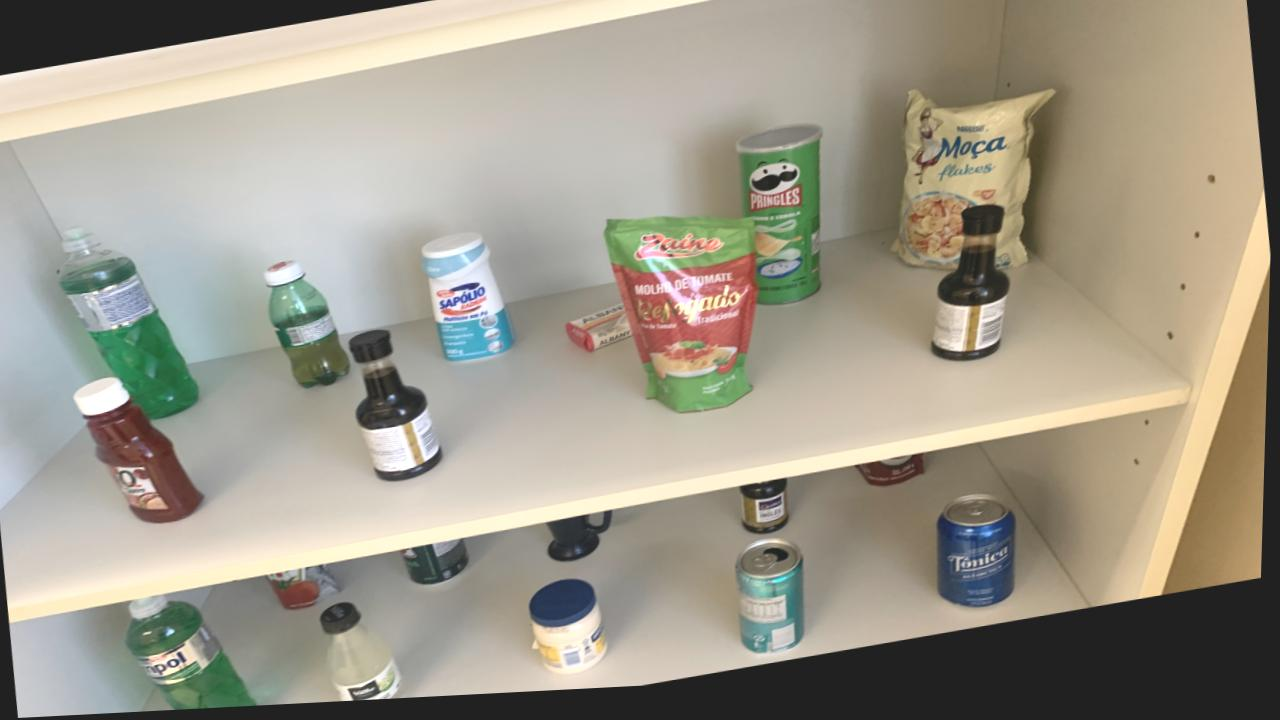Cleaner-Cleanup_Items: (424, 238, 519, 367)
Detergent-Cleanup_Items: (61, 229, 201, 420), (129, 598, 261, 712)
English_Sauce-Pantry_Items: (352, 333, 445, 486), (935, 215, 1013, 372), (744, 487, 793, 543)
Flakes-Snacks: (894, 99, 1056, 280)
Guarana-Drinks: (267, 263, 352, 392)
Guarana_Can-Drinks: (406, 544, 473, 590)
Ketchup-Pantry_Items: (76, 379, 206, 525)
Mayonnaise-Pantry_Items: (533, 585, 611, 681)
Pringles-Snacks: (737, 132, 823, 313)
Soap-Cleanup_Items: (568, 311, 635, 358)
Soda-Drinks: (324, 606, 407, 705)
Tea-Drinks: (739, 546, 809, 662)
Tomato_Sauce-Pantry_Items: (607, 223, 760, 420), (269, 568, 344, 613), (858, 463, 927, 496)
Tonic-Drinks: (940, 504, 1020, 618)
